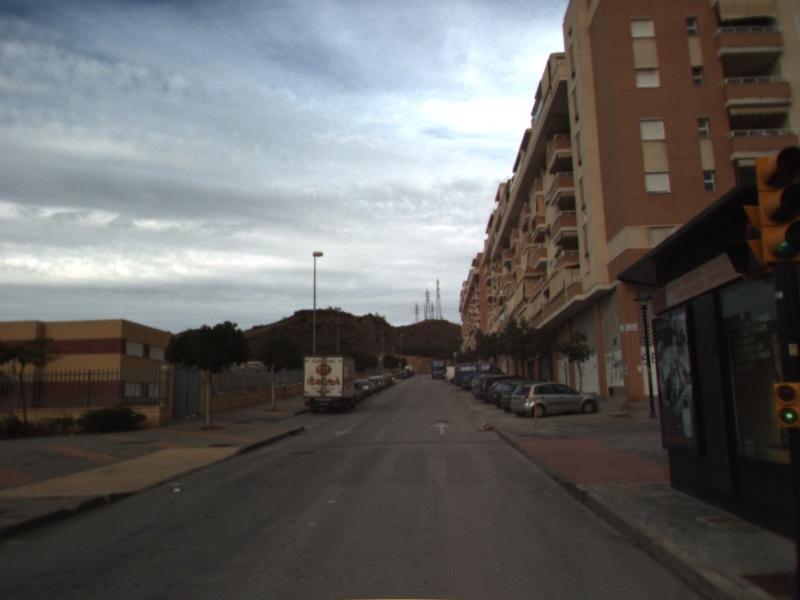STRAIGHT: (431, 420, 452, 436)
